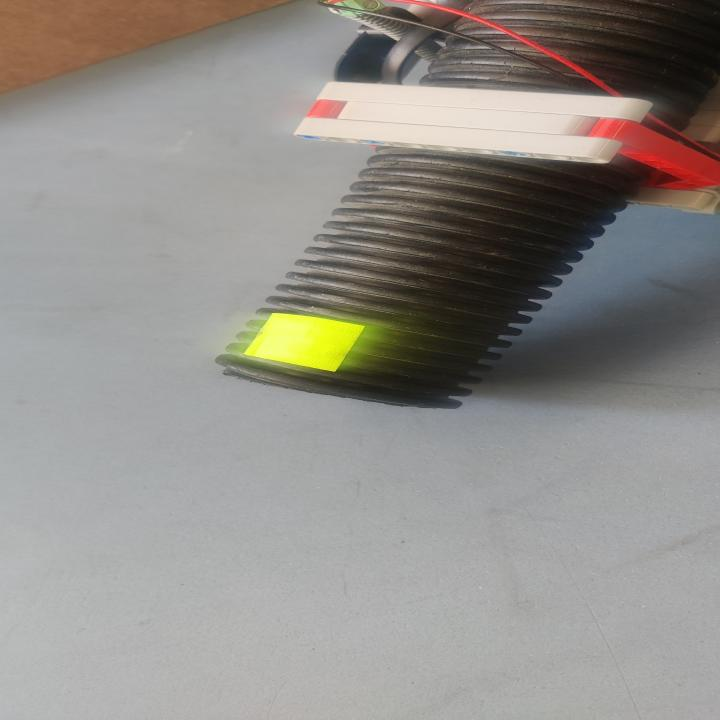robot-front: (218, 158, 620, 405)
